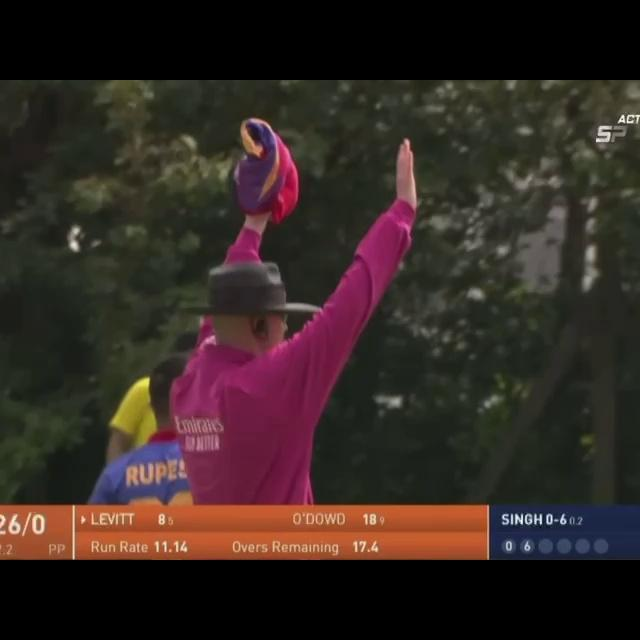umpire: (125, 80, 481, 467)
